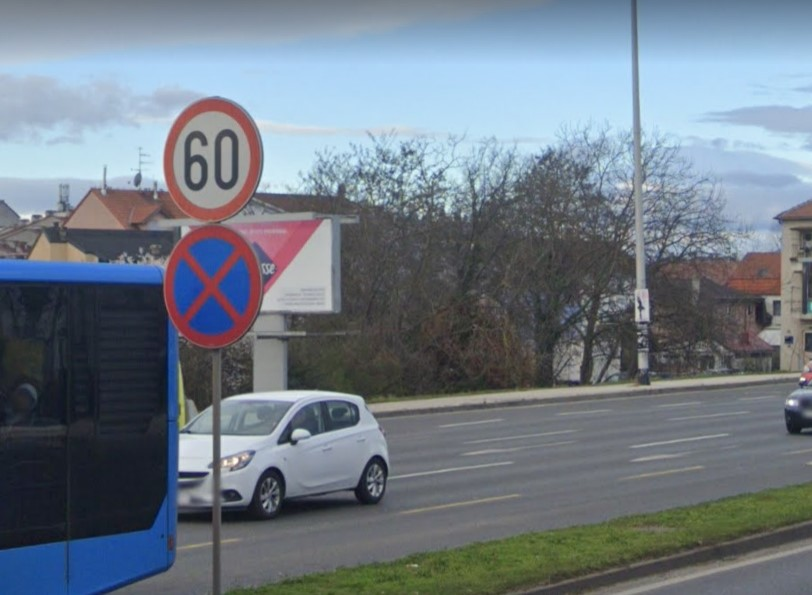Ograničenje brzine 60: (163, 97, 264, 222)
